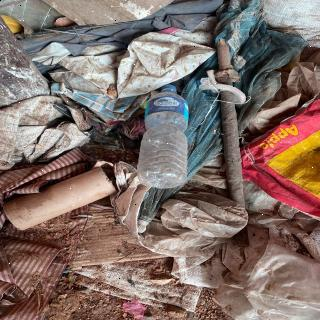Plastic-bottle: (136, 83, 196, 191)
